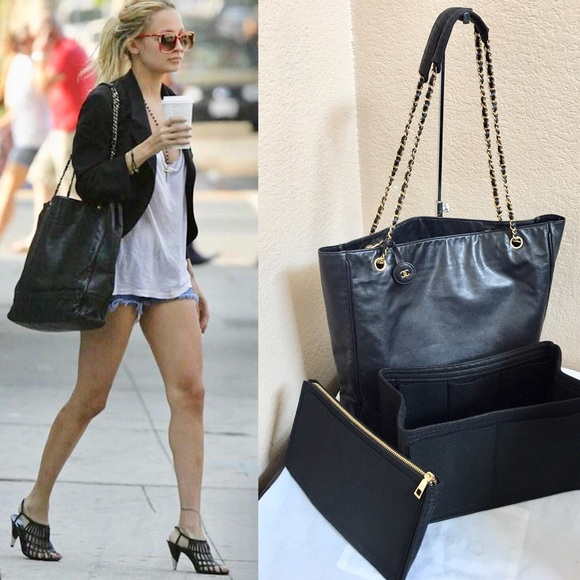channel: (311, 168, 580, 455), (13, 192, 121, 331), (468, 34, 517, 223), (47, 165, 80, 210), (387, 264, 422, 289)
